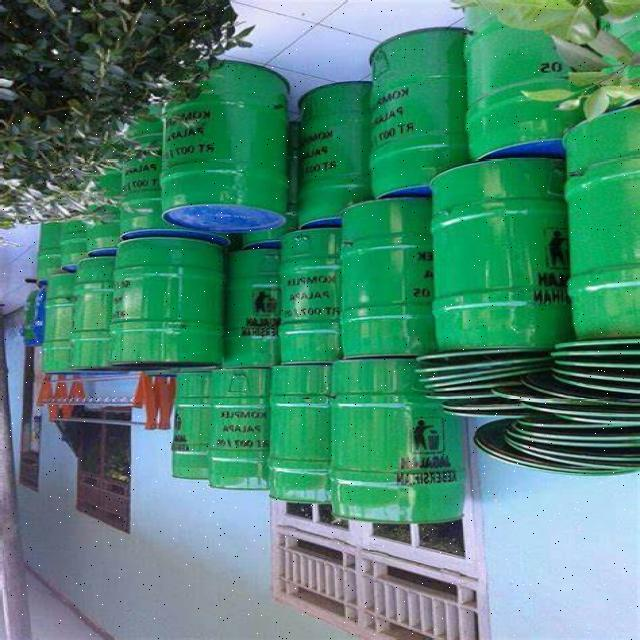garbage container: (323, 355, 484, 579), (426, 155, 573, 359), (162, 72, 299, 242), (472, 5, 596, 169), (324, 196, 436, 365), (367, 22, 467, 201), (119, 239, 243, 383), (574, 108, 640, 361), (297, 72, 391, 224), (94, 102, 173, 254), (270, 367, 353, 505), (61, 255, 144, 393), (277, 216, 358, 355), (165, 367, 236, 505), (202, 376, 277, 505)
